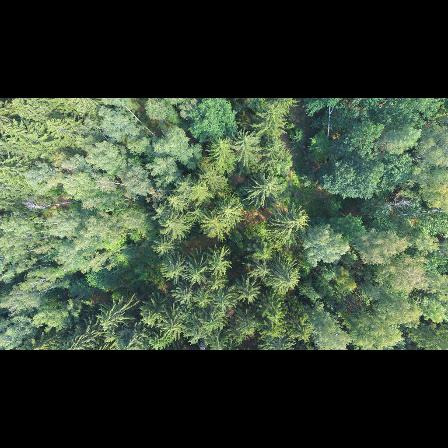Dead: (22, 196, 80, 213), (373, 198, 413, 211)
